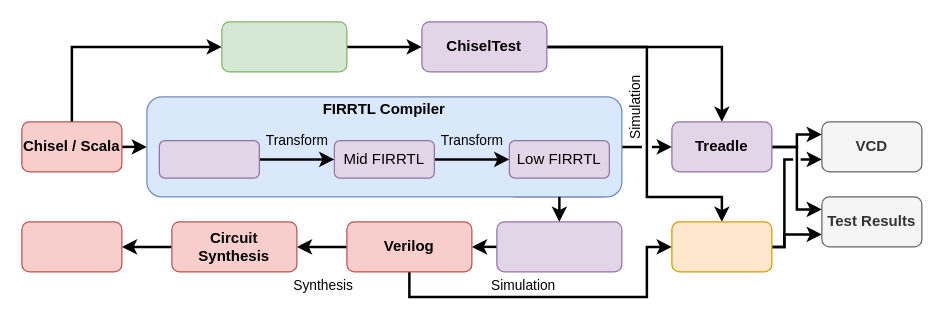
This 944x330 diagram has some shape labels left out. The box of each missing label's shape, as (x1, y1, x2, y2) in pixels:
Bitstream: (21, 221, 122, 272)
ChiselVerify: (221, 21, 347, 72)
High FIRRTL: (158, 139, 259, 178)
Verilator: (671, 221, 772, 272)
Verilog Emitter: (496, 221, 622, 272)
